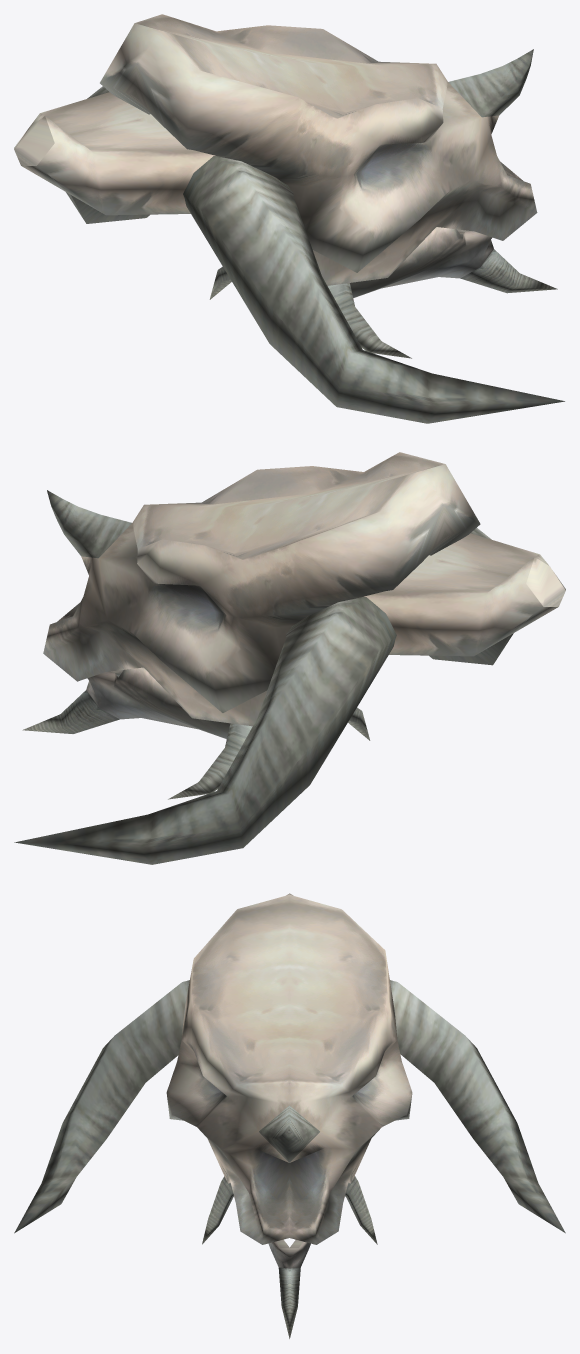
Rendered from db_dragonskull02.obj.
The picture shows the model from 3 angles, top to bottom: view 1: azimuth 30°, elevation 25°; view 2: azimuth 150°, elevation 25°; view 3: azimuth 270°, elevation 25°; orthographic projection. The views are drawn at different scales.
Parts seen in each view (by area): view 1: db_dragonskull02; view 2: db_dragonskull02; view 3: db_dragonskull02.
Boxes of the visible parts, box(x1,y1,x2,y2) form: db_dragonskull02: box(14, 14, 564, 423); db_dragonskull02: box(14, 452, 565, 864); db_dragonskull02: box(14, 893, 565, 1338).
Size of the model in its own units: 14.65 by 9.24 by 16.03.
1 material, 1 textured.
